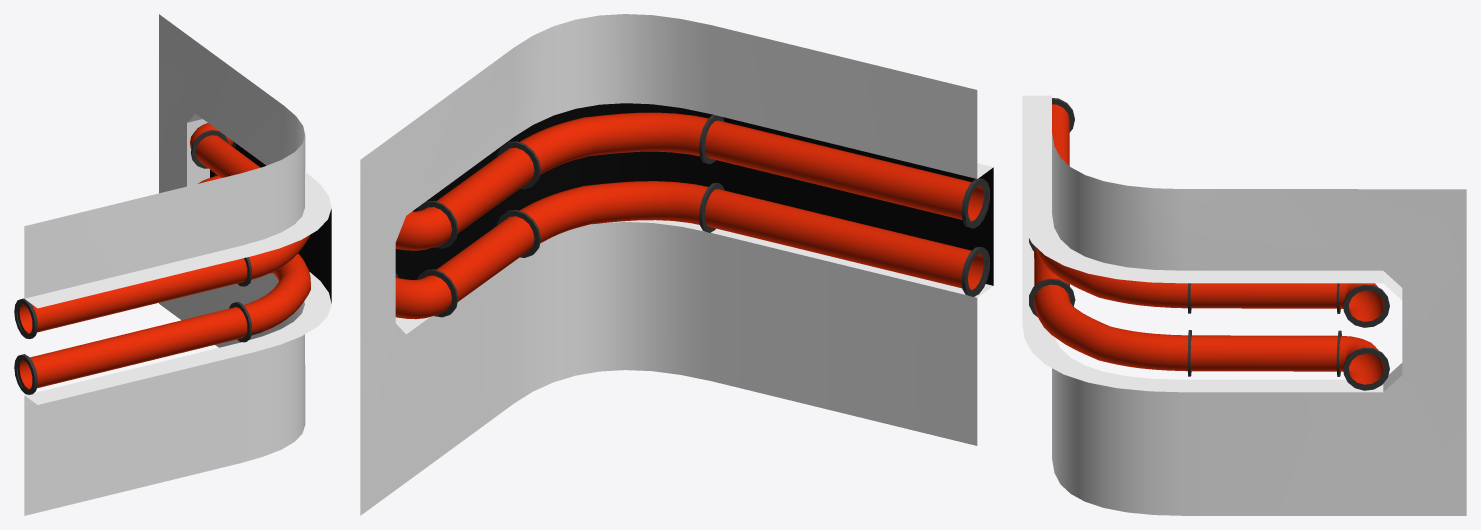
The model's file is S_assete_basement_wall_soft_inside_corner_3.fbx.
3 views of the same model, side by side, from view 1: azimuth 30°, elevation 25°; view 2: azimuth 150°, elevation 25°; view 3: azimuth 270°, elevation 25° (orthographic). The views are drawn at different scales.
Visible parts, largest first — view 1: basement_wall_soft_inside_corner_midel_3; view 2: basement_wall_soft_inside_corner_midel_3; view 3: basement_wall_soft_inside_corner_midel_3.
Part boxes in pixels (x1,y1,x2,y2): basement_wall_soft_inside_corner_midel_3: (14,14,331,515); basement_wall_soft_inside_corner_midel_3: (360,14,993,515); basement_wall_soft_inside_corner_midel_3: (1022,95,1466,515).
Size of the model in its own units: 248 by 200 by 247.
